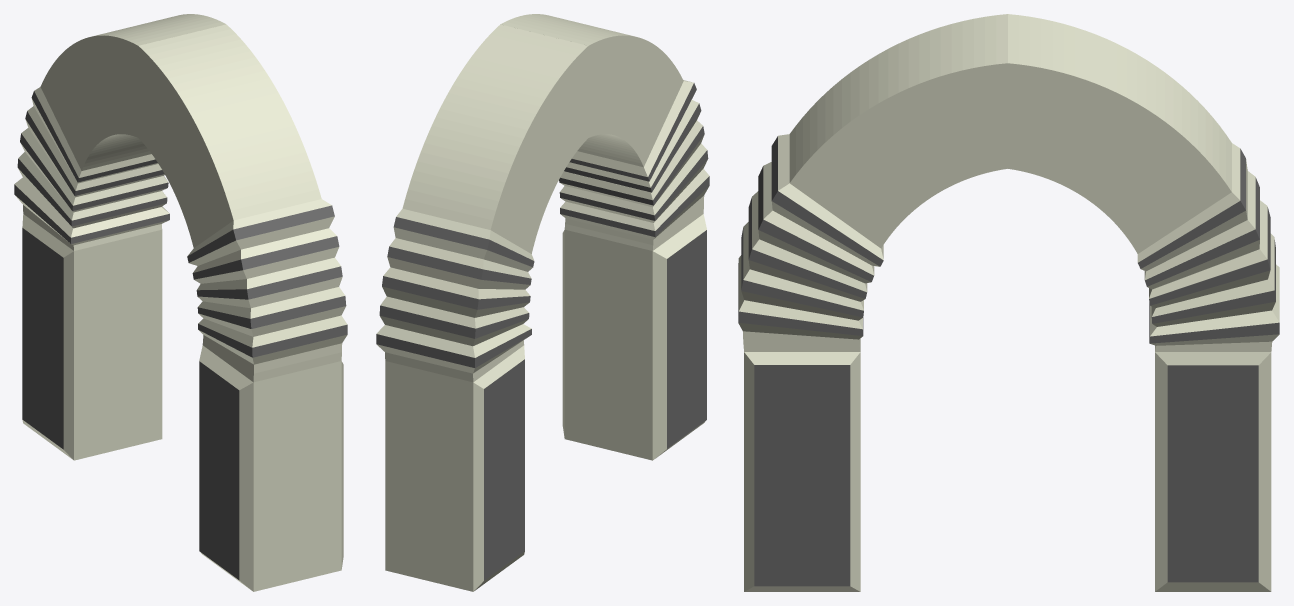
The model's file is arch.glb.
The picture shows the model from 3 angles, left to right: view 1: azimuth 30°, elevation 25°; view 2: azimuth 150°, elevation 25°; view 3: azimuth 270°, elevation 25°; orthographic projection. The views are drawn at different scales.
Parts seen in each view (by area): view 1: Cube; view 2: Cube; view 3: Cube.
Boxes of the visible parts, bbox=[...] form: Cube: bbox=[14, 14, 347, 591]; Cube: bbox=[376, 14, 709, 591]; Cube: bbox=[738, 14, 1279, 591].
Size of the model in its own units: 2.34 by 10.02 by 9.3.
